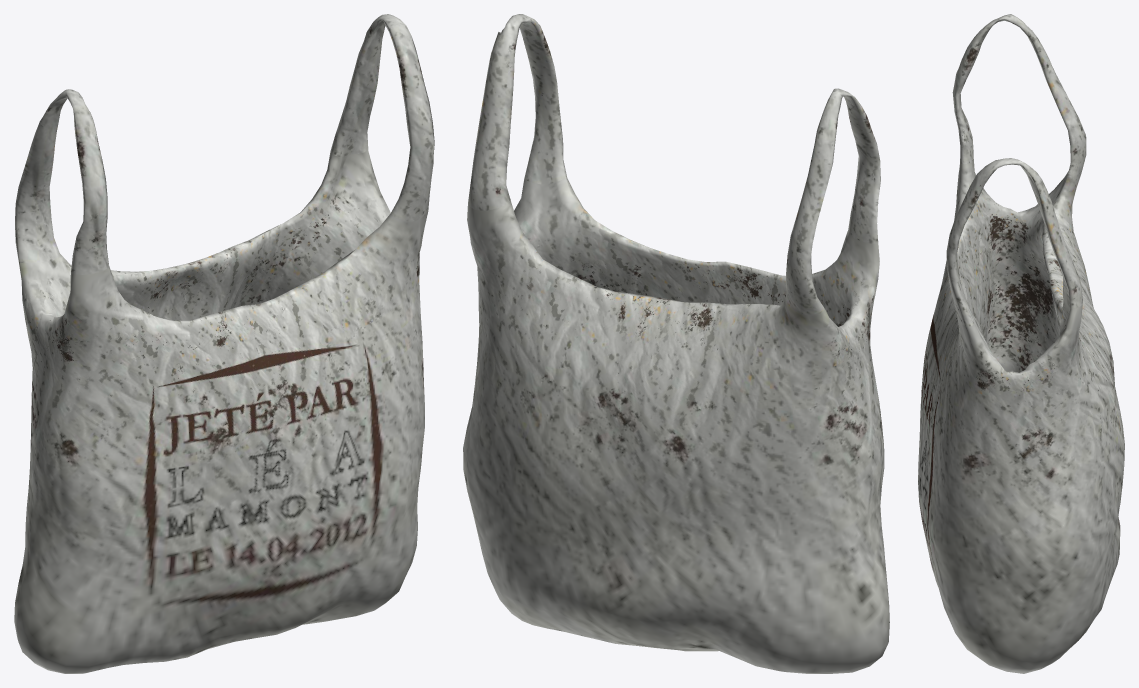
Rendered from sac_plastique.glb.
The picture shows the model from 3 angles, left to right: view 1: azimuth 30°, elevation 25°; view 2: azimuth 150°, elevation 25°; view 3: azimuth 270°, elevation 25°; orthographic projection. The views are drawn at different scales.
Visible parts, largest first — view 1: sac_plastique; view 2: sac_plastique; view 3: sac_plastique.
Boxes of the visible parts, left/top/right/bottom form: sac_plastique: left=14, top=14, right=434, bottom=673; sac_plastique: left=463, top=14, right=889, bottom=673; sac_plastique: left=918, top=14, right=1124, bottom=673.
Bounding box in the file's own units: 0.9016 × 1.27 × 0.4506.
1 material, 1 textured.
